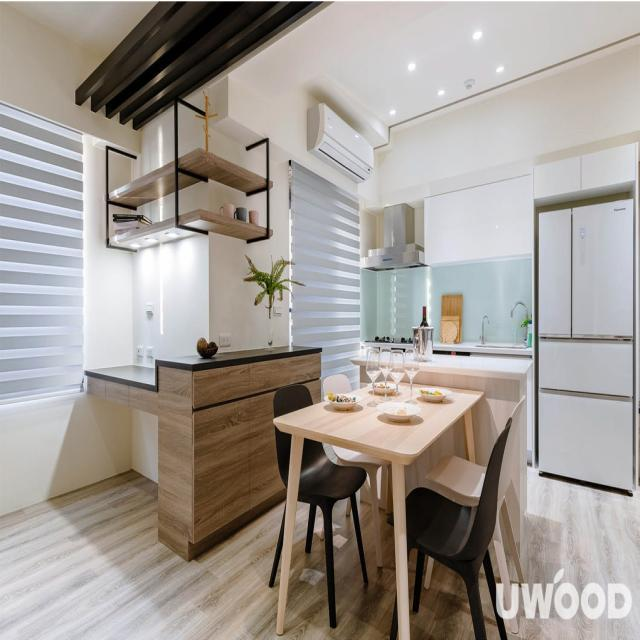table: (254, 356, 524, 640)
